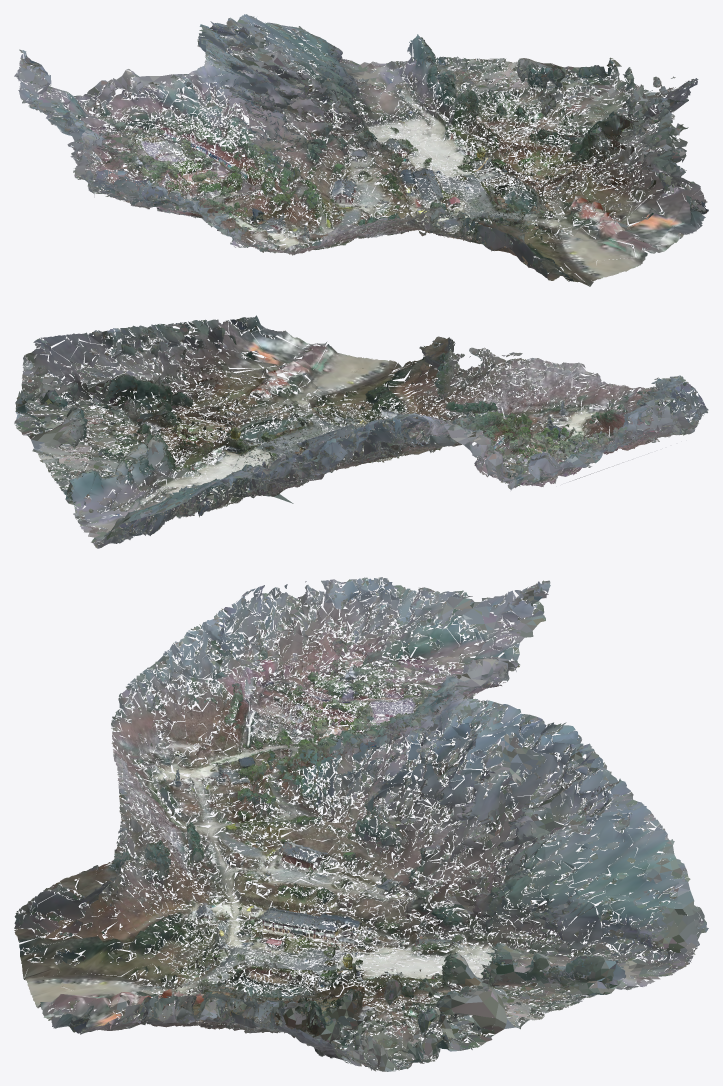
File: wau.glb
3 renders of one model, top to bottom at view 1: azimuth 30°, elevation 25°; view 2: azimuth 150°, elevation 25°; view 3: azimuth 270°, elevation 25°, orthographic. The views are drawn at different scales.
Visible parts, largest first — view 1: Stereo textured mesh_Material0_0.008, Stereo textured mesh_Material0_0, Stereo textured mesh_Material0_0.009, Stereo textured mesh_Material0_0.001, Stereo textured mesh_Material0_0.002, Stereo textured mesh_Material0_0.003, Stereo textured mesh_Material0_0.010, Stereo textured mesh_Material0_0.004, Stereo textured mesh_Material0_0.005, Stereo textured mesh_Material0_0.006, Stereo textured mesh_Material0_0.012, Stereo textured mesh_Material0_0.011 (+7 smaller); view 2: Stereo textured mesh_Material0_0.008, Stereo textured mesh_Material0_0.009, Stereo textured mesh_Material0_0.001, Stereo textured mesh_Material0_0.002, Stereo textured mesh_Material0_0, Stereo textured mesh_Material0_0.010, Stereo textured mesh_Material0_0.003, Stereo textured mesh_Material0_0.004, Stereo textured mesh_Material0_0.005, Stereo textured mesh_Material0_0.012, Stereo textured mesh_Material0_0.013, Stereo textured mesh_Material0_0.011 (+7 smaller); view 3: Stereo textured mesh_Material0_0.001, Stereo textured mesh_Material0_0.009, Stereo textured mesh_Material0_0.008, Stereo textured mesh_Material0_0.002, Stereo textured mesh_Material0_0.004, Stereo textured mesh_Material0_0.003, Stereo textured mesh_Material0_0, Stereo textured mesh_Material0_0.010, Stereo textured mesh_Material0_0.011, Stereo textured mesh_Material0_0.013, Stereo textured mesh_Material0_0.012, Stereo textured mesh_Material0_0.005 (+7 smaller).
Part boxes in pixels (bbox=[...]): Stereo textured mesh_Material0_0.008: bbox=[19, 23, 707, 286]; Stereo textured mesh_Material0_0: bbox=[43, 66, 685, 222]; Stereo textured mesh_Material0_0.009: bbox=[14, 23, 708, 286]; Stereo textured mesh_Material0_0.001: bbox=[16, 50, 687, 254]; Stereo textured mesh_Material0_0.002: bbox=[34, 57, 685, 254]; Stereo textured mesh_Material0_0.003: bbox=[87, 28, 676, 250]; Stereo textured mesh_Material0_0.010: bbox=[20, 14, 705, 278]; Stereo textured mesh_Material0_0.004: bbox=[73, 16, 669, 249]; Stereo textured mesh_Material0_0.005: bbox=[72, 18, 674, 242]; Stereo textured mesh_Material0_0.006: bbox=[103, 23, 650, 212]; Stereo textured mesh_Material0_0.012: bbox=[17, 15, 707, 279]; Stereo textured mesh_Material0_0.011: bbox=[26, 17, 695, 270]; Stereo textured mesh_Material0_0.008: bbox=[23, 315, 696, 543]; Stereo textured mesh_Material0_0.009: bbox=[20, 316, 705, 530]; Stereo textured mesh_Material0_0.001: bbox=[16, 343, 708, 490]; Stereo textured mesh_Material0_0.002: bbox=[15, 348, 693, 504]; Stereo textured mesh_Material0_0: bbox=[32, 349, 705, 487]; Stereo textured mesh_Material0_0.010: bbox=[14, 317, 699, 543]; Stereo textured mesh_Material0_0.003: bbox=[16, 348, 698, 518]; Stereo textured mesh_Material0_0.004: bbox=[18, 347, 707, 535]; Stereo textured mesh_Material0_0.005: bbox=[18, 355, 698, 539]; Stereo textured mesh_Material0_0.012: bbox=[14, 317, 706, 548]; Stereo textured mesh_Material0_0.013: bbox=[15, 319, 707, 546]; Stereo textured mesh_Material0_0.011: bbox=[16, 320, 702, 544]; Stereo textured mesh_Material0_0.001: bbox=[112, 579, 550, 1063]; Stereo textured mesh_Material0_0.009: bbox=[18, 577, 701, 1071]; Stereo textured mesh_Material0_0.008: bbox=[14, 579, 708, 1062]; Stereo textured mesh_Material0_0.002: bbox=[108, 590, 617, 1071]; Stereo textured mesh_Material0_0.004: bbox=[114, 585, 706, 1071]; Stereo textured mesh_Material0_0.003: bbox=[114, 607, 628, 1070]; Stereo textured mesh_Material0_0: bbox=[229, 579, 524, 1060]; Stereo textured mesh_Material0_0.010: bbox=[20, 578, 698, 1066]; Stereo textured mesh_Material0_0.011: bbox=[19, 578, 700, 1070]; Stereo textured mesh_Material0_0.013: bbox=[16, 579, 700, 1069]; Stereo textured mesh_Material0_0.012: bbox=[19, 578, 691, 1070]; Stereo textured mesh_Material0_0.005: bbox=[117, 581, 703, 1071].
Size of the model in its own units: 4.35 by 1.25 by 3.43.
Materials: 1 (1 with a texture image).
